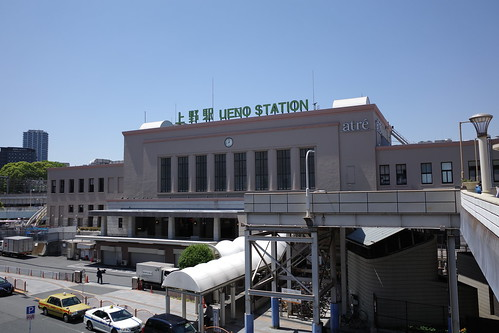building: (39, 108, 485, 255), (22, 121, 49, 168), (1, 145, 35, 167)
car: (36, 289, 89, 323), (81, 302, 135, 333)
sky: (6, 1, 499, 143)
